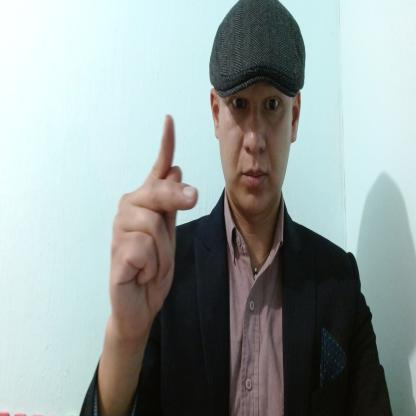P: (109, 110, 199, 335)
